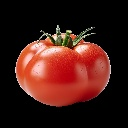tomato: (15, 31, 112, 107)
